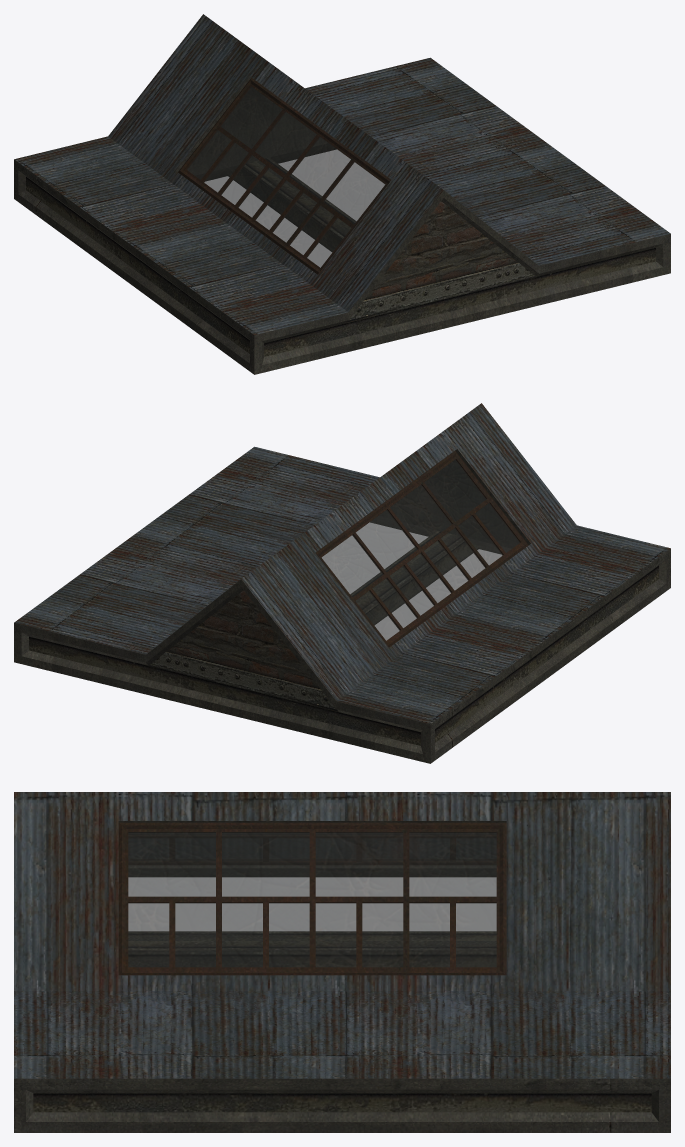
Rendered from roof_bx_1_corner_2.obj.
3 views of the same model, one above another, from view 1: azimuth 30°, elevation 25°; view 2: azimuth 150°, elevation 25°; view 3: azimuth 270°, elevation 25° (orthographic). The views are drawn at different scales.
Visible parts, largest first — view 1: roof_bx_1_corner_2; view 2: roof_bx_1_corner_2; view 3: roof_bx_1_corner_2.
Boxes of the visible parts, x1,y1,x2,y2 form: roof_bx_1_corner_2: (14, 14, 670, 374); roof_bx_1_corner_2: (14, 403, 670, 763); roof_bx_1_corner_2: (14, 792, 670, 1132).
Bounding box in the file's own units: 4.4 × 1.4 × 4.4.
